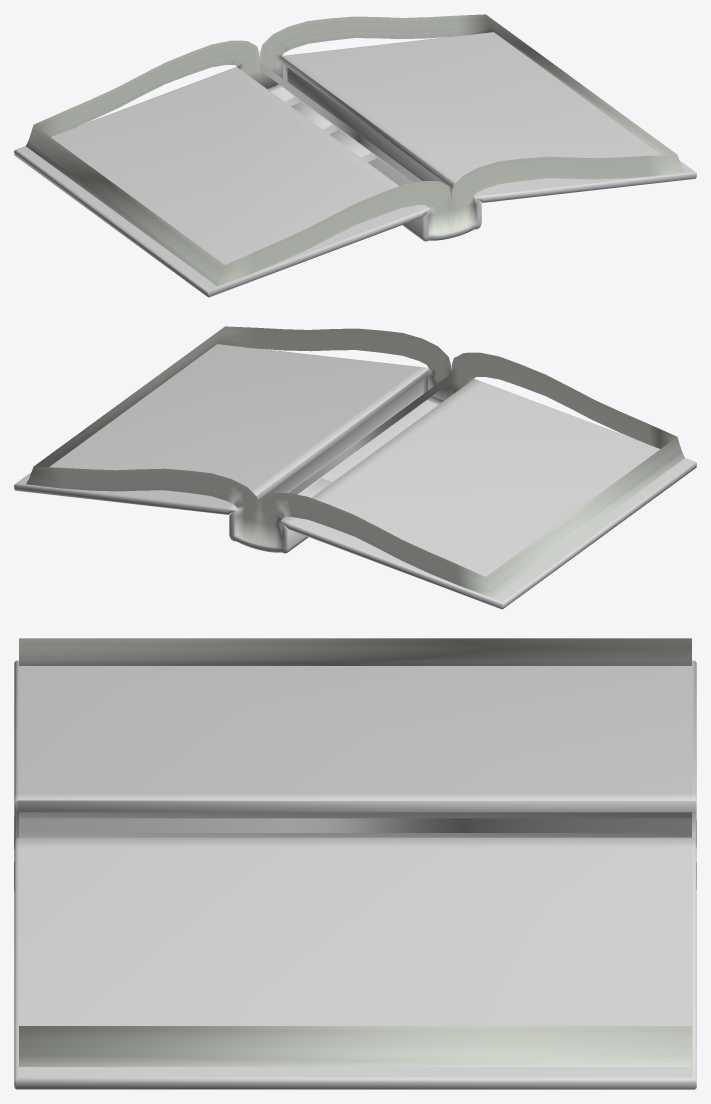
Rendered from cover-past.glb.
3 views of the same model, one above another, from view 1: azimuth 30°, elevation 25°; view 2: azimuth 150°, elevation 25°; view 3: azimuth 270°, elevation 25° (orthographic). The views are drawn at different scales.
Visible parts, largest first — view 1: cover_past; view 2: cover_past; view 3: cover_past.
Boxes of the visible parts, <box> form: cover_past: <box>14,14,696,297</box>; cover_past: <box>14,326,696,609</box>; cover_past: <box>14,638,696,1089</box>.
Size of the model in its own units: 1.25 by 0.1611 by 0.8617.
2 materials, 1 textured.
